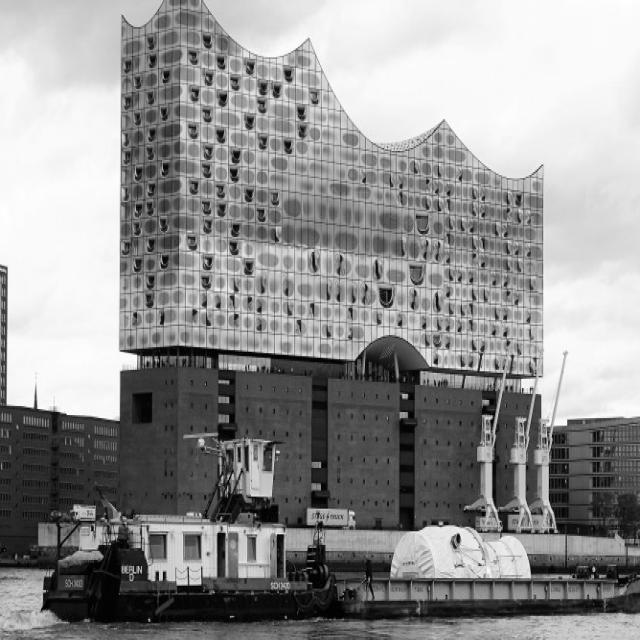tugboat: (40, 424, 339, 637)
